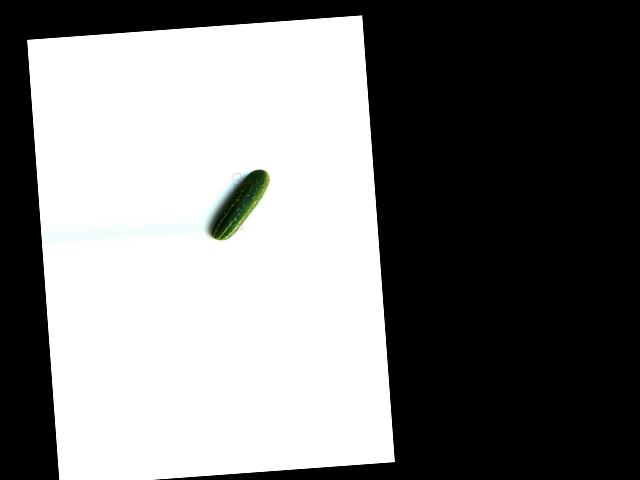cucumber: (206, 169, 274, 241)
